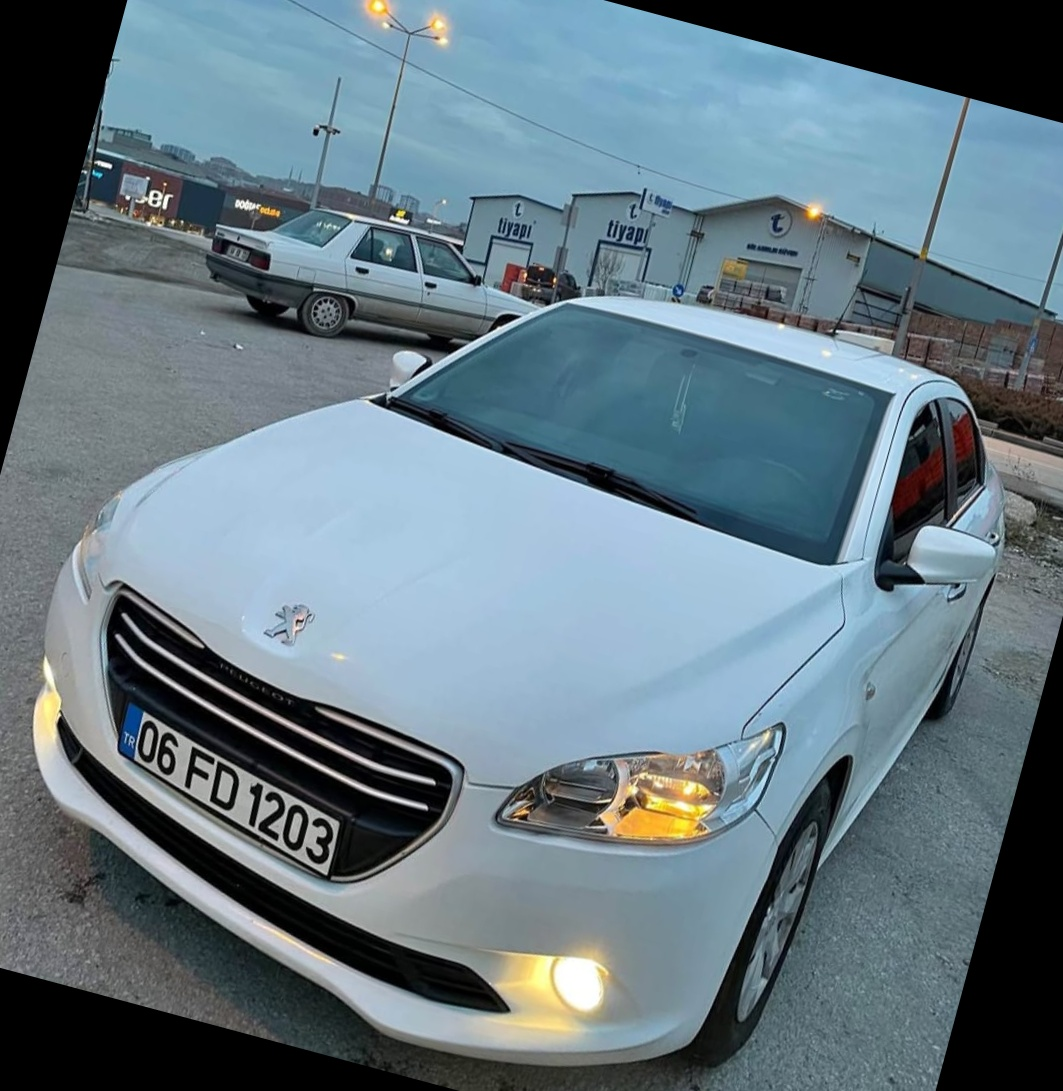plaka: (121, 712, 341, 869)
